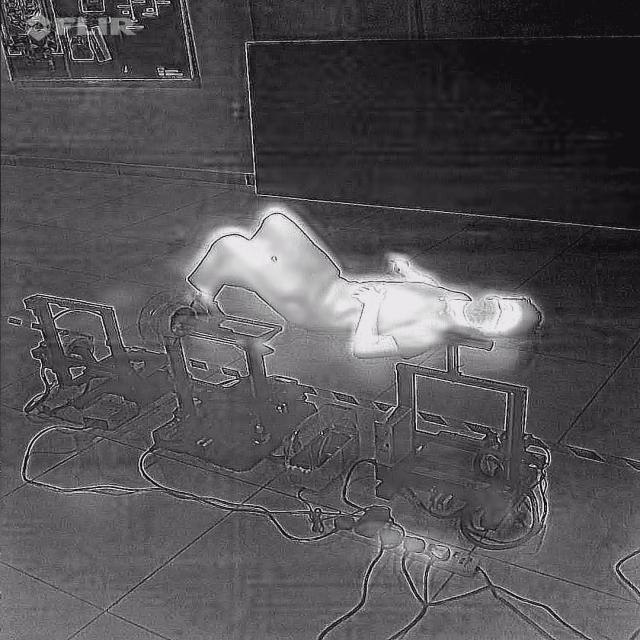Victim: (160, 204, 553, 364)
